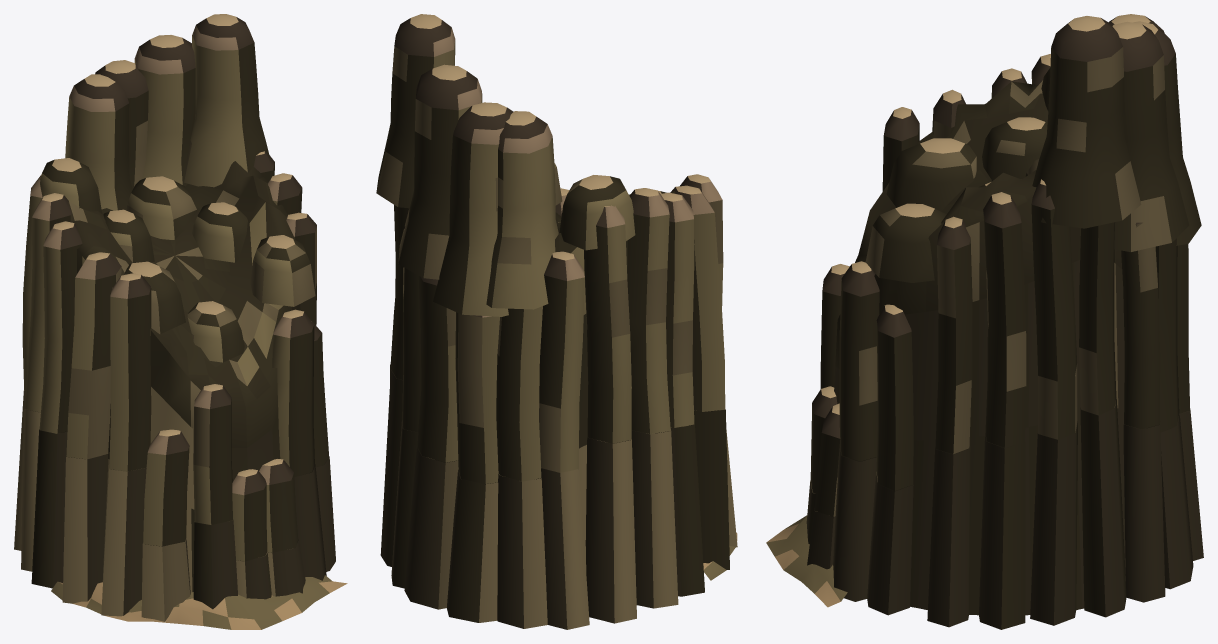
File: ZonTmound02.glb
3 views of the same model, side by side, from view 1: azimuth 30°, elevation 25°; view 2: azimuth 150°, elevation 25°; view 3: azimuth 270°, elevation 25° (orthographic). The views are drawn at different scales.
Parts seen in each view (by area): view 1: mound_core; view 2: mound_core; view 3: mound_core.
Part boxes in pixels (x1,y1,x2,y2): mound_core: (14,14,347,629); mound_core: (376,14,737,629); mound_core: (766,14,1203,629).
Bounding box in the file's own units: 2.98 × 5.04 × 3.46.
